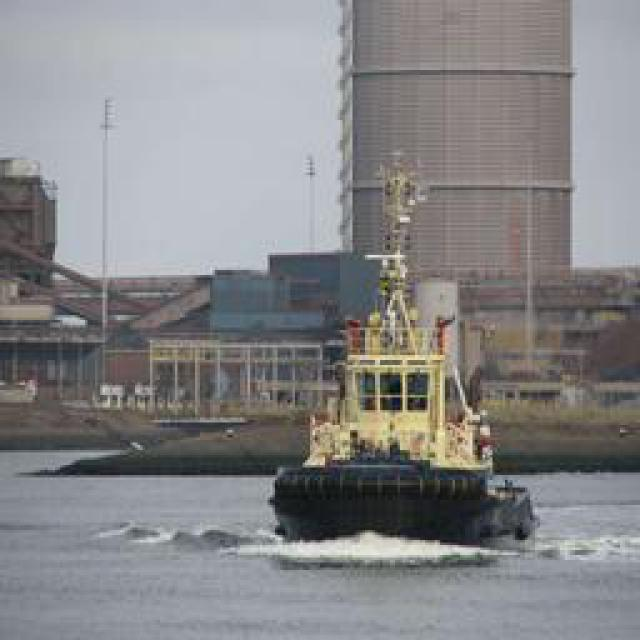Ship: (266, 255, 524, 550)
